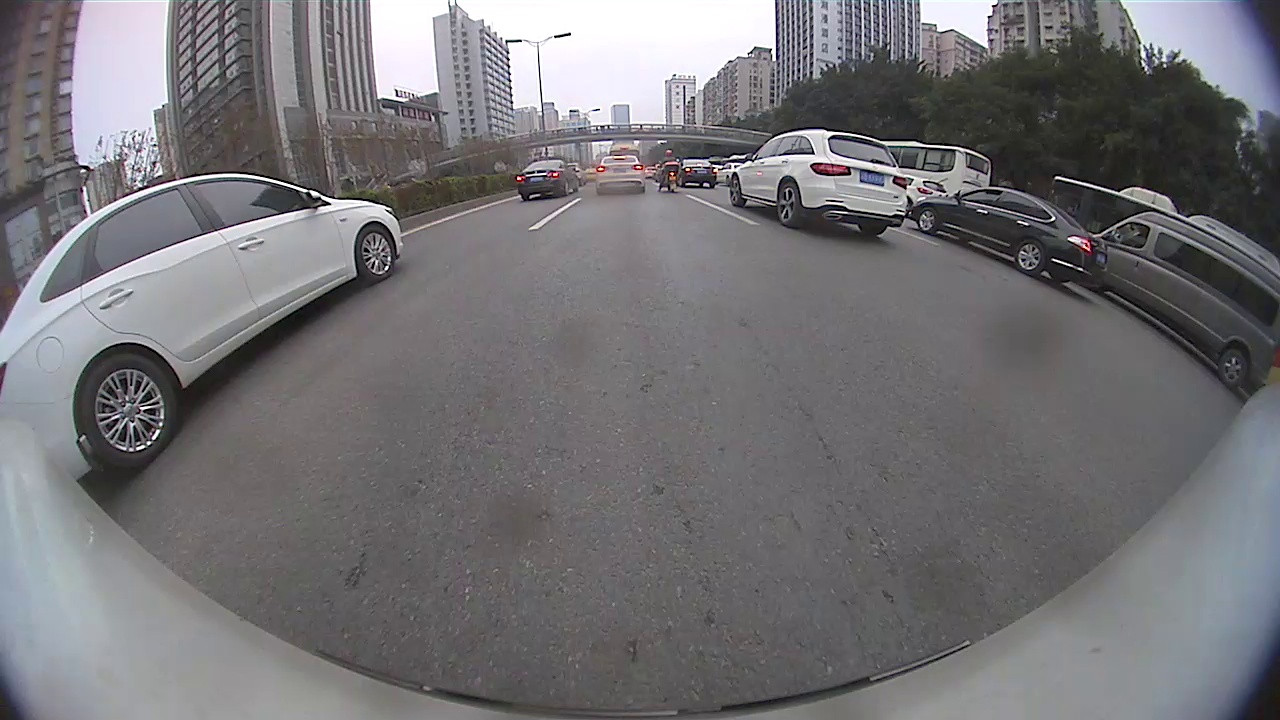bus: (1052, 174, 1279, 280), (884, 140, 994, 200)
car: (0, 174, 403, 480), (1086, 205, 1277, 388), (730, 124, 913, 237), (915, 185, 1110, 290), (515, 158, 580, 201), (594, 156, 649, 197)
front: (353, 222, 397, 283), (918, 209, 939, 236), (729, 173, 743, 206)
rear: (77, 351, 179, 467), (1217, 347, 1249, 387), (1014, 240, 1046, 275), (777, 182, 801, 227)
rider: (656, 150, 681, 190)
